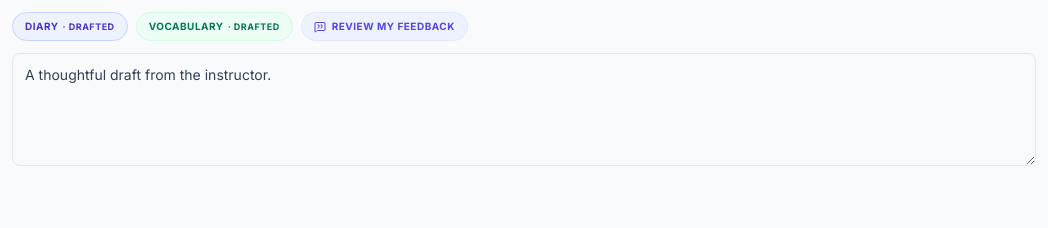
it: AI review prerequisite recovery › keeps a cached-true server entry error until a real save, and retries a failed save
What coordinates should you click on to do the following:
click the button "Review my feedback"
I would click on:
 (384, 26)
Its box is [301, 12, 468, 41].
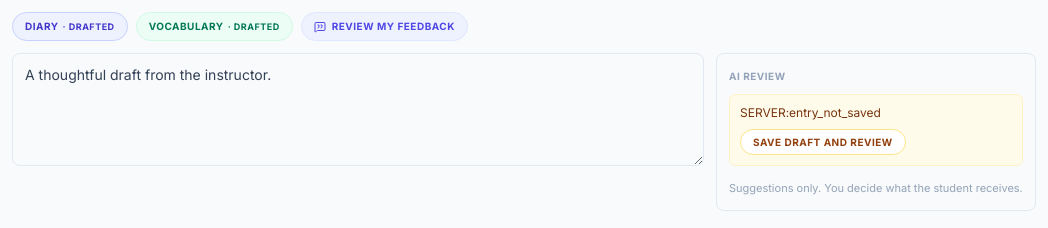
Expected: the text "SERVER:entry_not_saved" is shown, [740, 105, 881, 120]
Expected: the button "Save draft and review" is shown
What coordinates should you click on to do the following:
click the button "Save draft and review"
I would click on:
 (823, 142)
Its box is [740, 129, 906, 155].
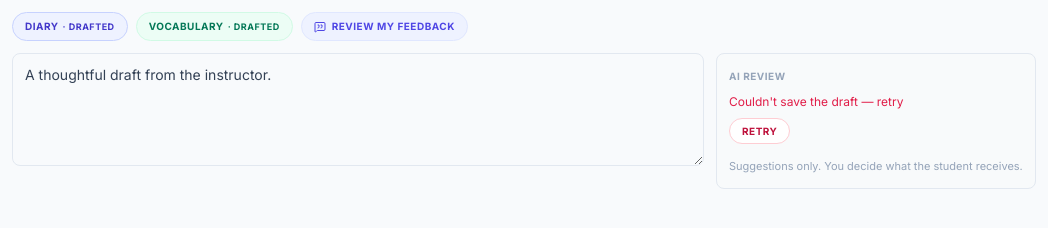
Expected: the button "Retry" is shown
Expected: the text "Couldn't save the draft — retry" is shown, [729, 94, 904, 109]
What coordinates should you click on to do the following:
click the button "Retry"
I would click on:
 (760, 131)
Its box is [729, 118, 790, 144].
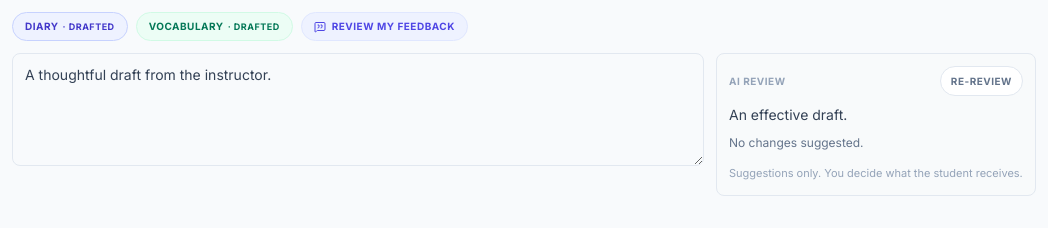
Expected: the text "SERVER:entry_not_saved" is not shown
Expected: the text "Couldn't save the draft — retry" is gone
Expected: the text "An effective draft." is shown, [729, 106, 847, 123]
